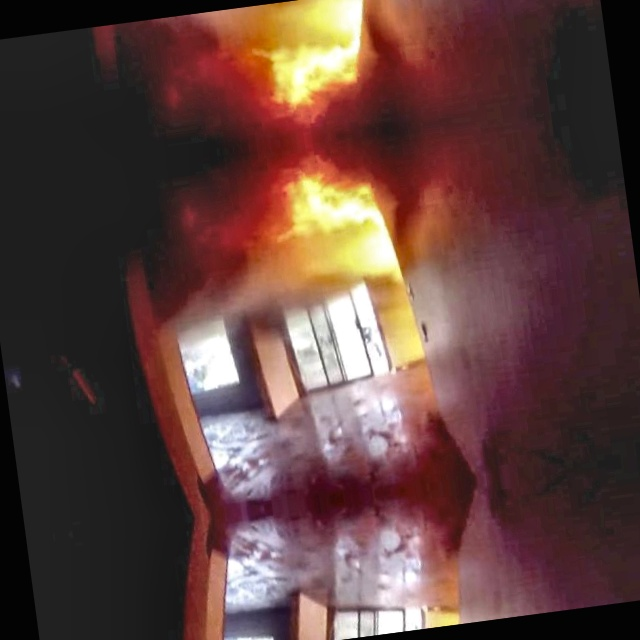fire: (204, 0, 462, 333)
